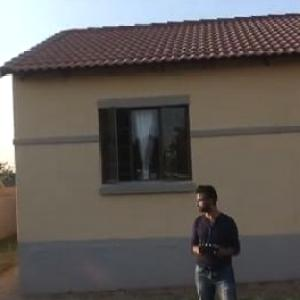follow: (186, 179, 254, 299)
